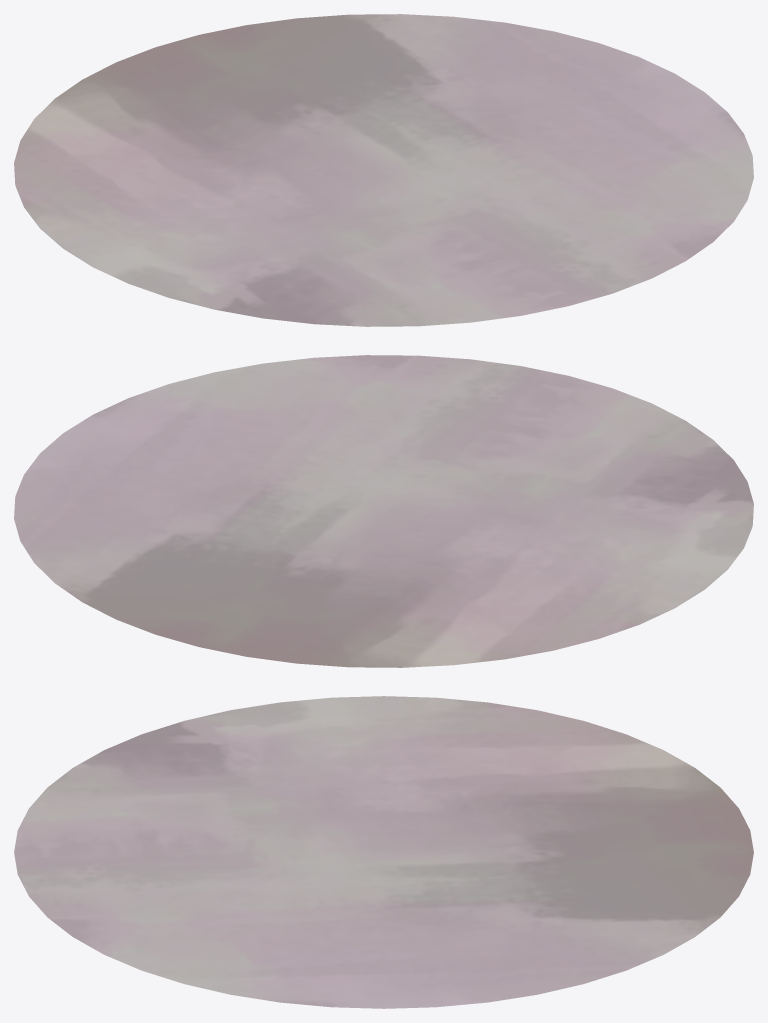
Rendered from Rug_Round.fbx.
The picture shows the model from 3 angles, top to bottom: view 1: azimuth 30°, elevation 25°; view 2: azimuth 150°, elevation 25°; view 3: azimuth 270°, elevation 25°; orthographic projection.
Parts seen in each view (by area): view 1: Rug_Round; view 2: Rug_Round; view 3: Rug_Round.
Part boxes in pixels (x1,y1,x2,y2): Rug_Round: (14,14,753,326); Rug_Round: (14,355,753,667); Rug_Round: (14,696,753,1008).
Size of the model in its own units: 246 by 0 by 246.
